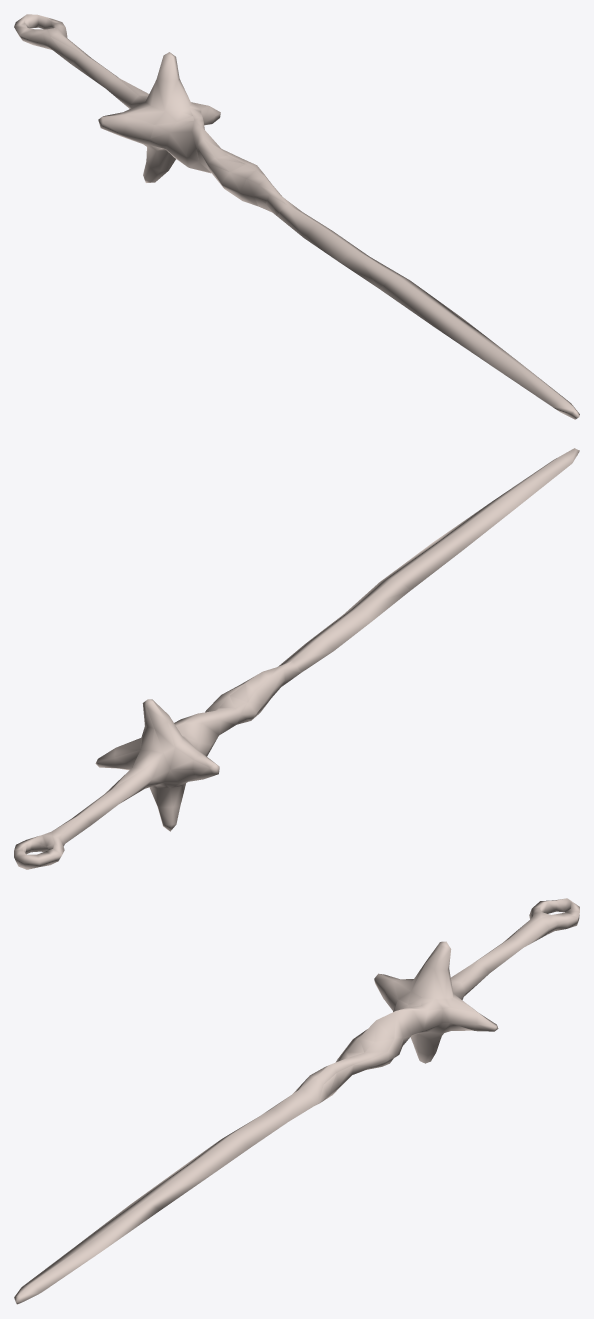
File: Bonfire_Sword.fbx
3 renders of one model, top to bottom at view 1: azimuth 30°, elevation 25°; view 2: azimuth 150°, elevation 25°; view 3: azimuth 330°, elevation 25°, orthographic.
Visible parts, largest first — view 1: o000100; view 2: o000100; view 3: o000100.
Boxes of the visible parts, bbox=[...] form: o000100: bbox=[14, 14, 579, 419]; o000100: bbox=[14, 448, 579, 869]; o000100: bbox=[14, 898, 579, 1304].
Bounding box in the file's own units: 15.75 × 15.7 × 125.
